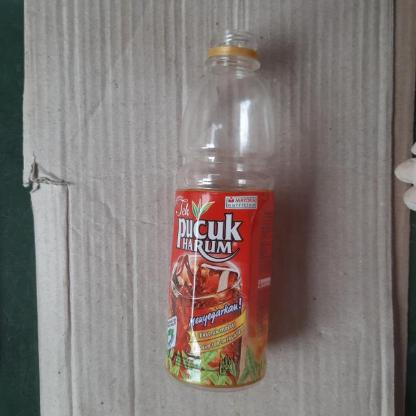Plastic Bottle: (166, 28, 276, 393)
